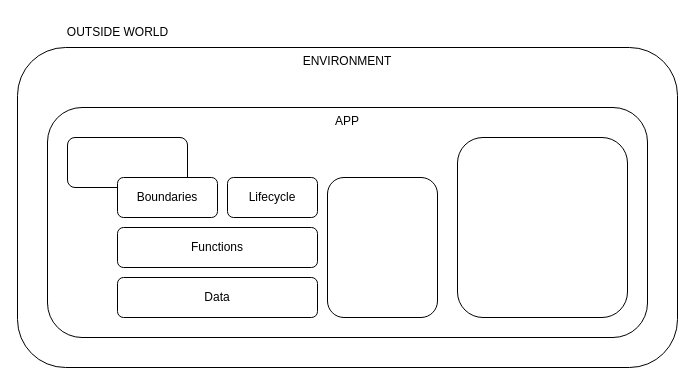
Image size: 695x385. Some labels were removed from this diagram. Each missing label, with the centre of its shape:
Pools and Dependencies: (x=127, y=162)
Tests: (x=382, y=247)
UI: (x=542, y=227)
